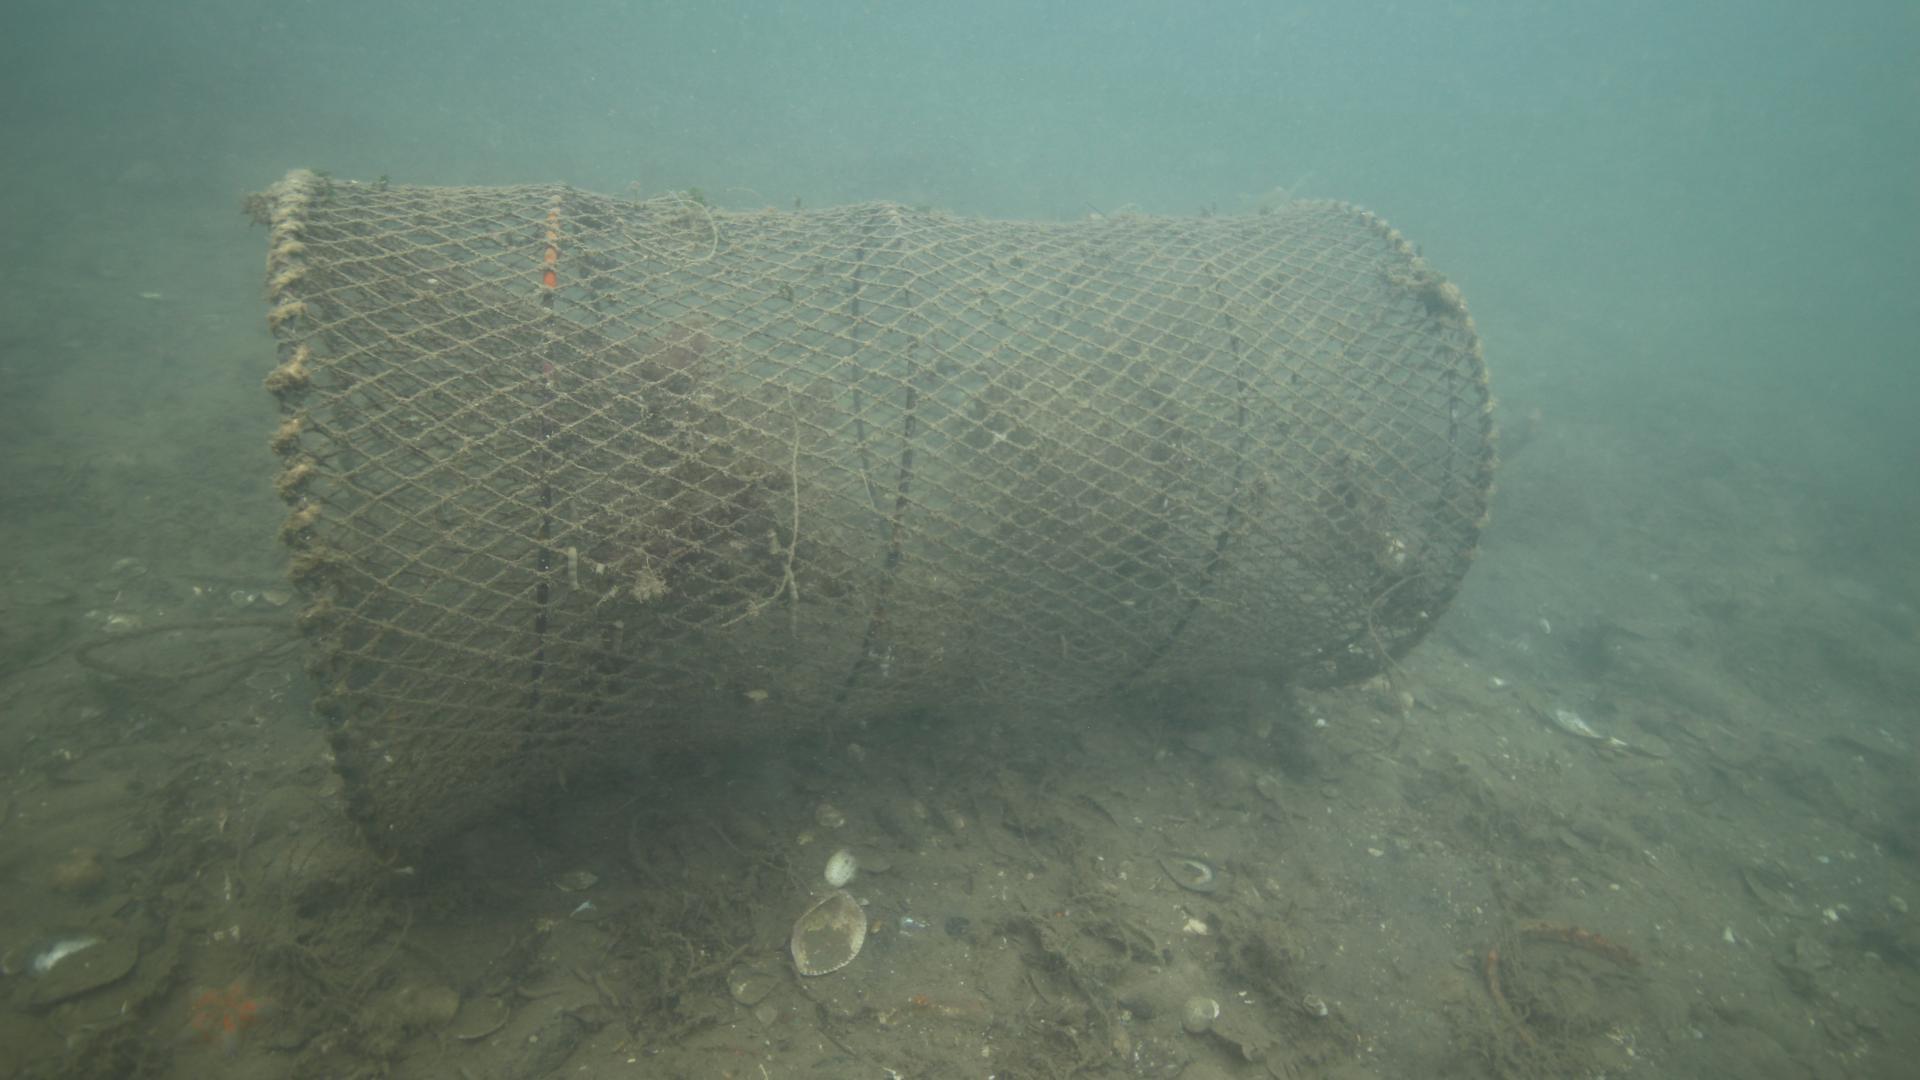spring fish trap: (262, 164, 1499, 868)
